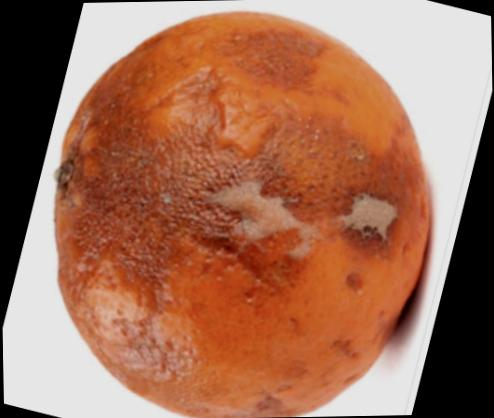Orange Rotten: (34, 0, 444, 418)
